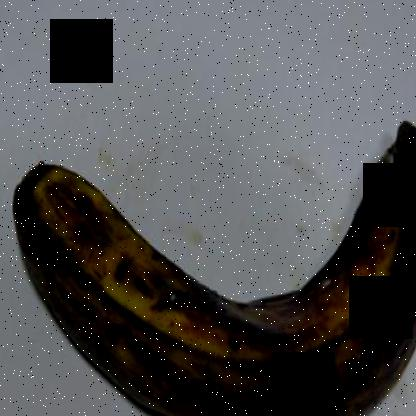rotten: (11, 107, 415, 414)
